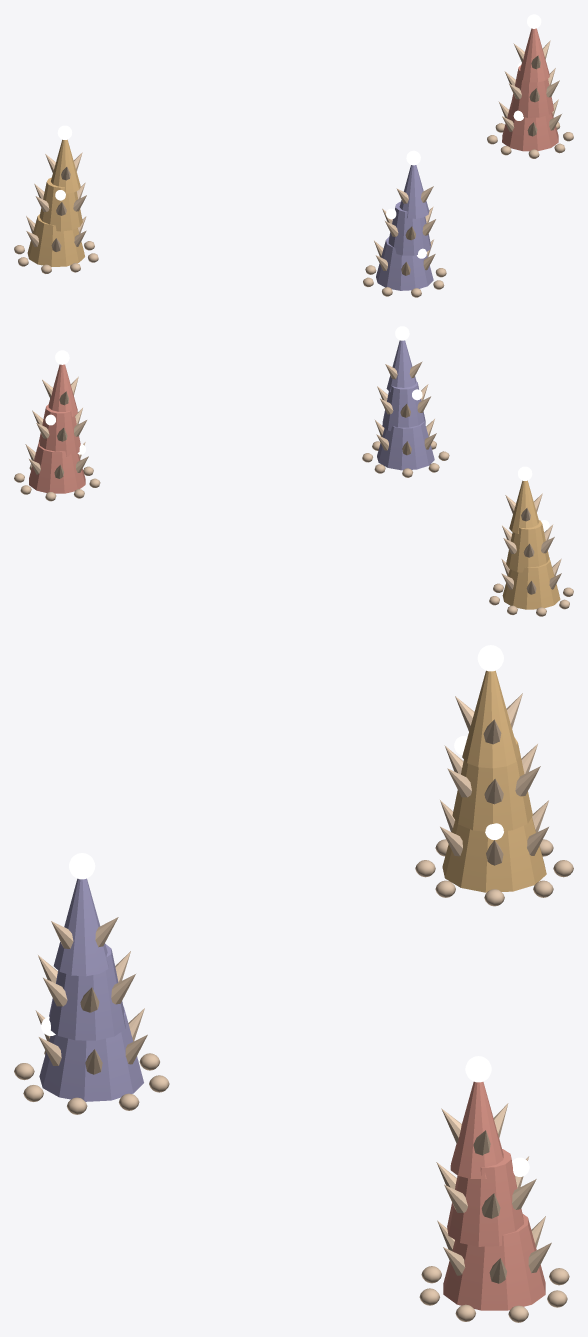
File: landmark-r6-chord-spires.glb
The picture shows the model from 3 angles, top to bottom: view 1: azimuth 30°, elevation 25°; view 2: azimuth 150°, elevation 25°; view 3: azimuth 270°, elevation 25°; orthographic projection. The views are drawn at different scales.
Visible parts, largest first — view 1: Static_Coral_light, Static_Coral_amber, Static_Coral_lilac, Static_Coral_salmon, Glow_pearls3; view 2: Static_Coral_light, Static_Coral_amber, Static_Coral_lilac, Static_Coral_salmon, Glow_pearls3; view 3: Static_Coral_light, Static_Coral_salmon, Static_Coral_lilac, Static_Coral_amber, Glow_pearls3.
Part boxes in pixels (x1,y1,x2,y2): Static_Coral_light: (14, 40, 573, 297); Static_Coral_amber: (27, 139, 84, 267); Static_Coral_lilac: (376, 165, 433, 290); Static_Coral_salmon: (502, 28, 558, 151); Glow_pearls3: (57, 14, 541, 165); Static_Coral_light: (14, 361, 573, 616); Static_Coral_amber: (502, 480, 560, 609); Static_Coral_lilac: (377, 340, 434, 470); Static_Coral_salmon: (29, 364, 85, 493); Glow_pearls3: (55, 326, 532, 480); Static_Coral_light: (14, 693, 573, 1322); Static_Coral_salmon: (443, 1081, 545, 1310); Static_Coral_lilac: (39, 878, 143, 1101); Static_Coral_amber: (442, 670, 546, 892); Glow_pearls3: (69, 645, 503, 1082).
Size of the model in its own units: 99.42 by 22.67 by 48.66.
